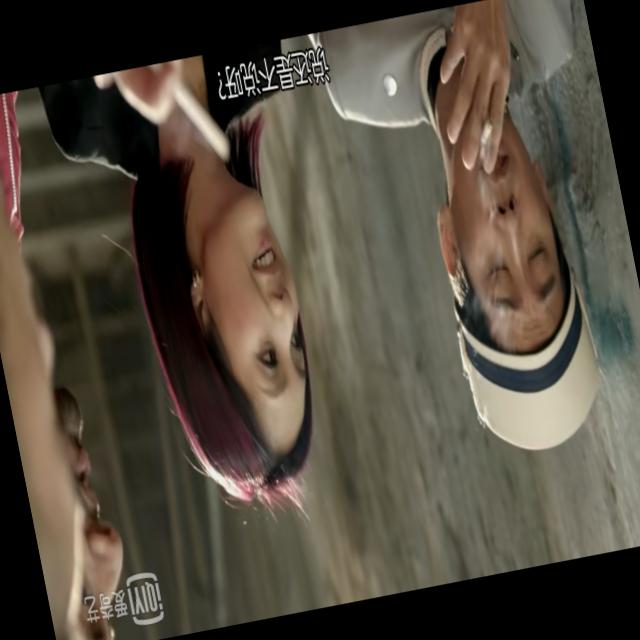cigarette: (148, 52, 236, 182), (472, 112, 498, 146)
